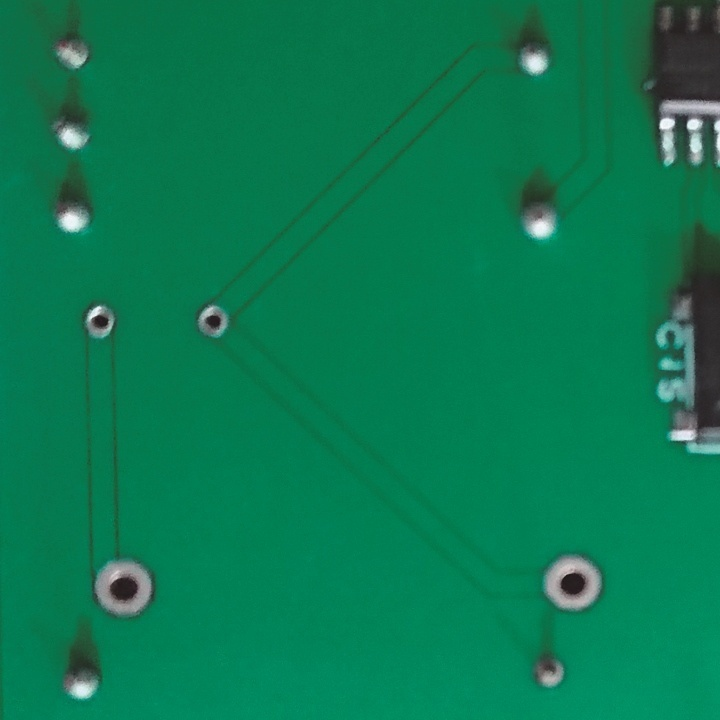F: (541, 550, 607, 616), (90, 558, 156, 620), (48, 32, 95, 77), (533, 653, 572, 692), (193, 302, 230, 341), (81, 303, 119, 340)
